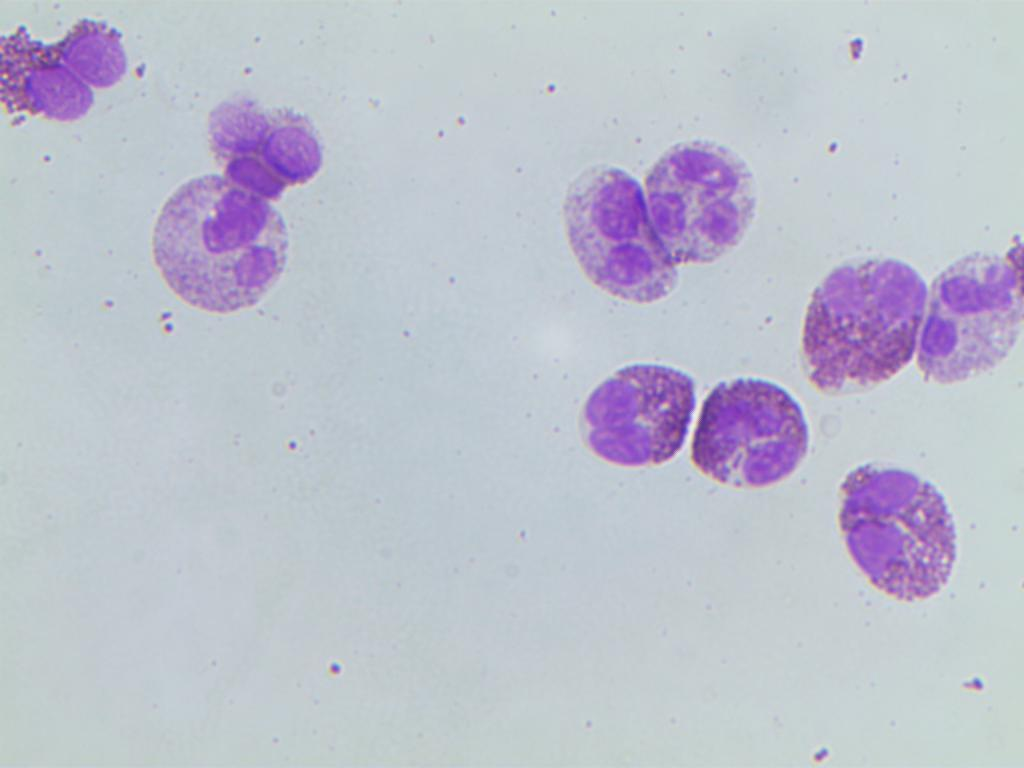eosinophil: (825, 453, 962, 639), (141, 175, 302, 316), (549, 345, 694, 482), (798, 236, 921, 396), (0, 7, 137, 143), (692, 363, 813, 516), (184, 78, 328, 202), (919, 234, 1024, 401), (555, 162, 674, 308), (643, 130, 769, 262)
